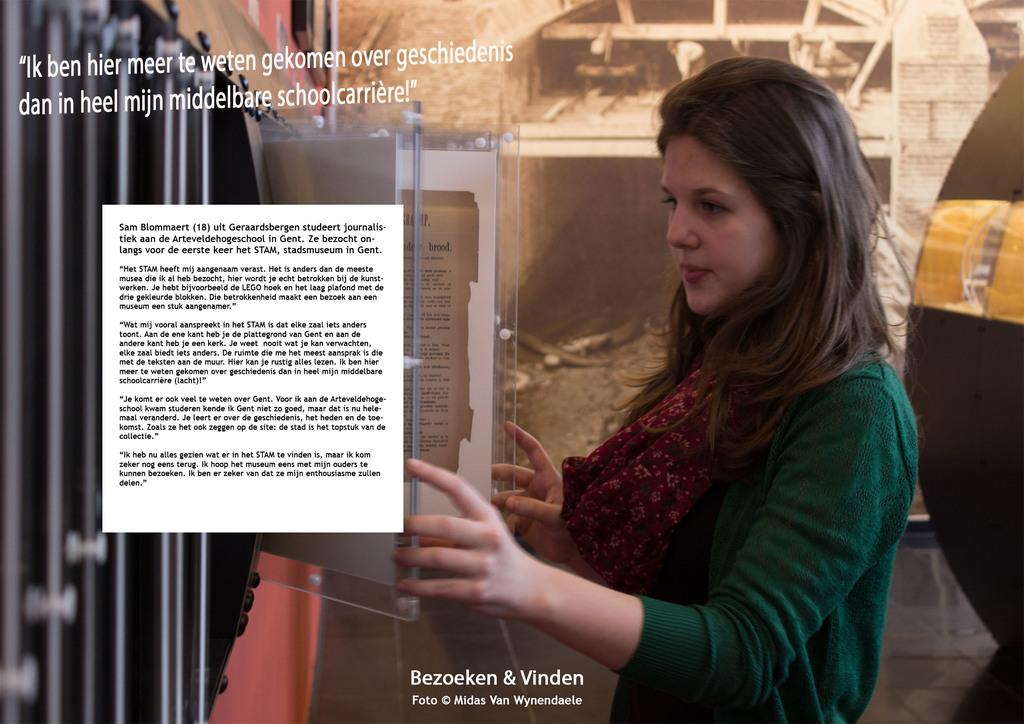Sem Máscara: (662, 127, 777, 311)
